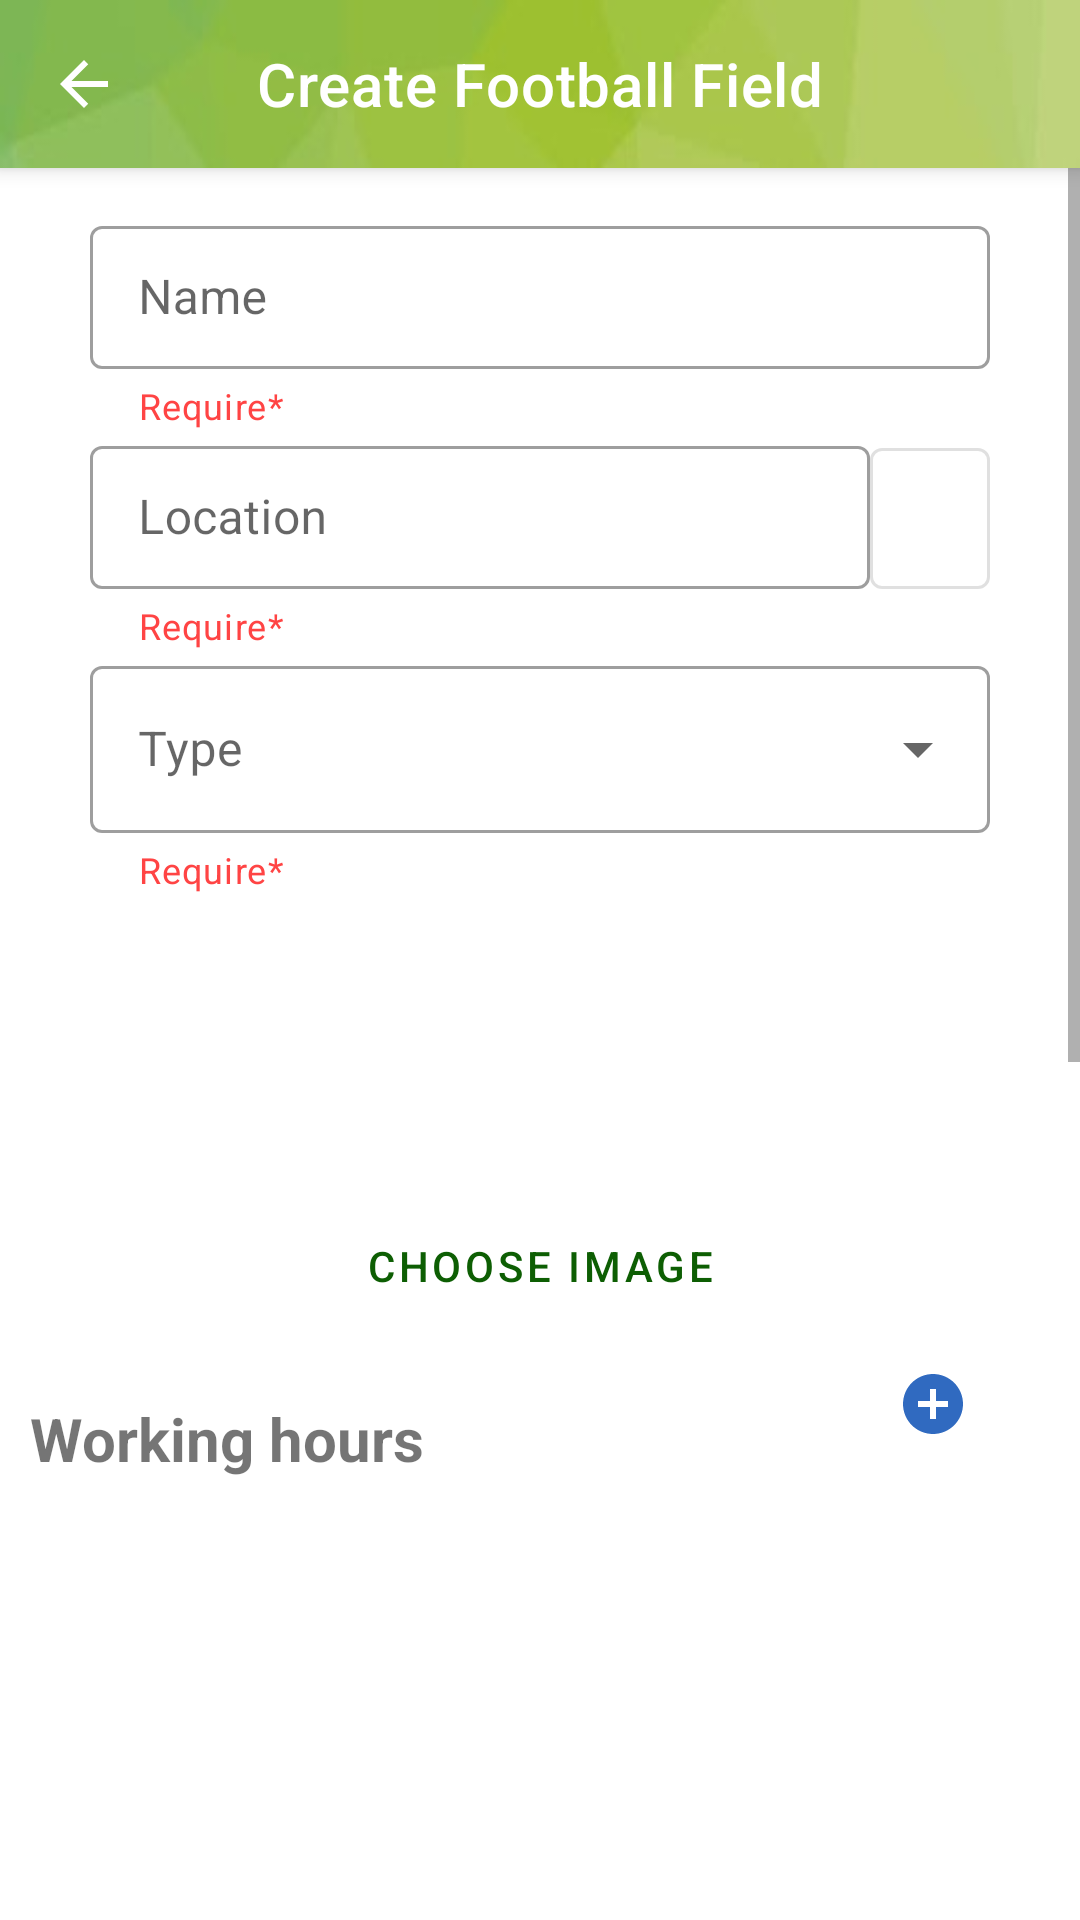

Named icons in this screenshot (1080×1920) and their bounding boxes, detection(x1, y1, x2, y2):
Add: detection(903, 1374, 963, 1434)
